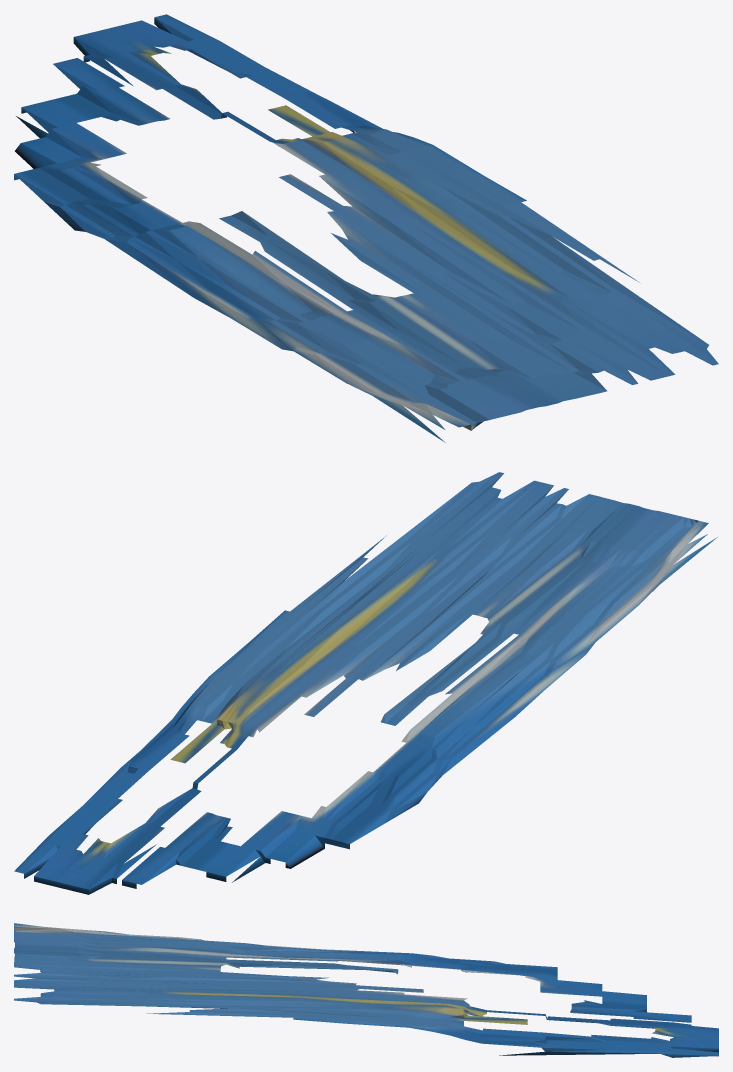
The model's file is frame_00285.glb.
The picture shows the model from 3 angles, top to bottom: view 1: azimuth 30°, elevation 25°; view 2: azimuth 150°, elevation 25°; view 3: azimuth 270°, elevation 25°; orthographic projection. The views are drawn at different scales.
Parts seen in each view (by area): view 1: geometry_0; view 2: geometry_0; view 3: geometry_0.
Boxes of the visible parts, x1,y1,x2,y2 form: geometry_0: [14, 14, 718, 442]; geometry_0: [14, 472, 717, 894]; geometry_0: [14, 923, 718, 1057].
Size of the model in its own units: 0.0495 by 0.013 by 0.16.
1 material, 1 textured.
